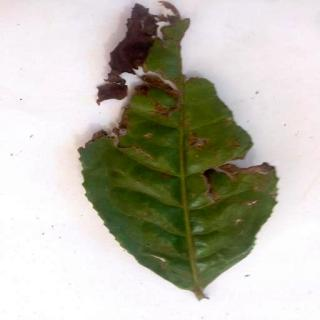Brown Blight: (81, 2, 277, 301)
